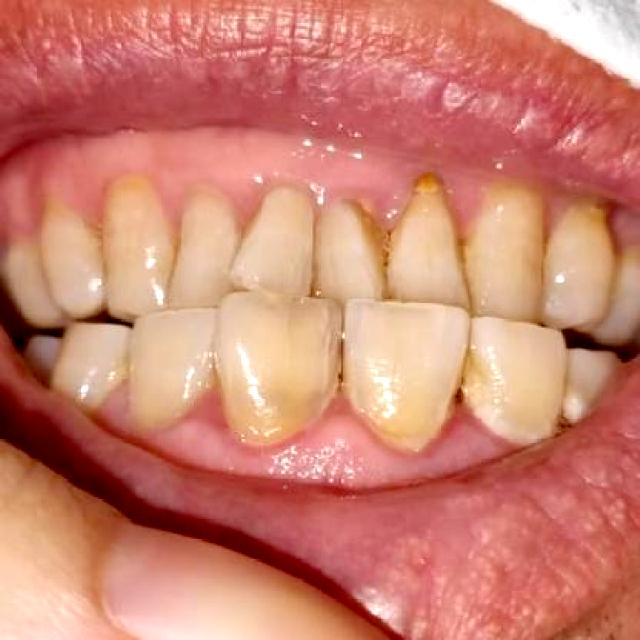Plaque: (160, 388, 516, 464), (300, 172, 412, 235), (439, 169, 499, 245), (145, 167, 198, 234), (218, 177, 265, 229), (537, 193, 580, 244)
